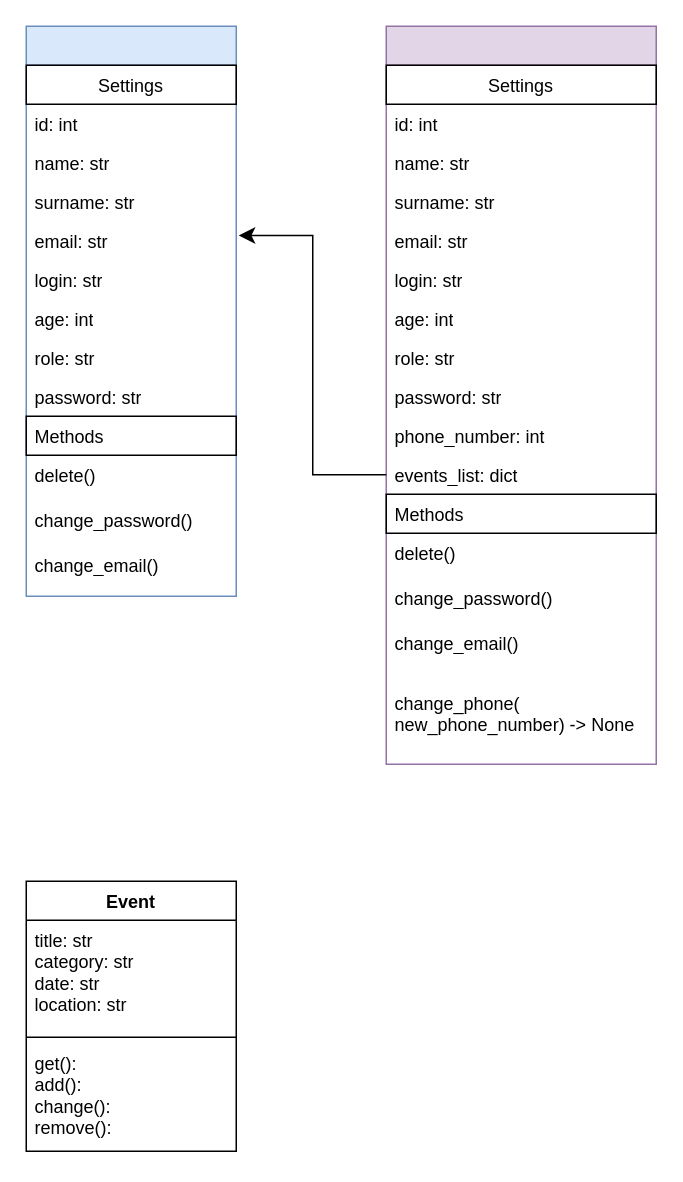
Some shapes in this 683 by 1182 pixel diagram are drawn without their labels. The shapes that lost their labels are listed below. From the top down, each one's box as (x1, y1, x2, y2) in pixels, then its label:
(25, 25, 236, 596): User
(385, 25, 656, 764): Organizer
